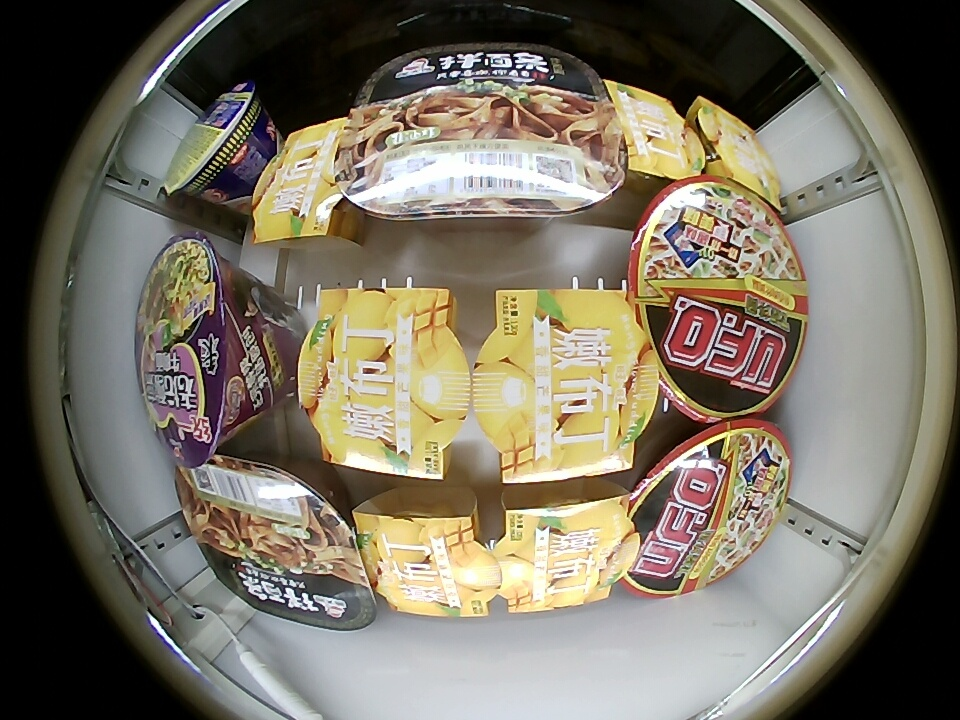buding: (473, 289, 661, 485), (300, 289, 471, 480), (495, 491, 640, 613), (352, 501, 503, 617), (251, 118, 355, 243), (604, 78, 704, 184), (696, 95, 784, 211)
gudasao: (337, 50, 626, 220), (175, 454, 378, 630)
heweidao: (164, 83, 264, 205)
laotansuancai: (137, 233, 271, 468)
ufo2: (628, 177, 808, 421), (620, 419, 792, 598)
